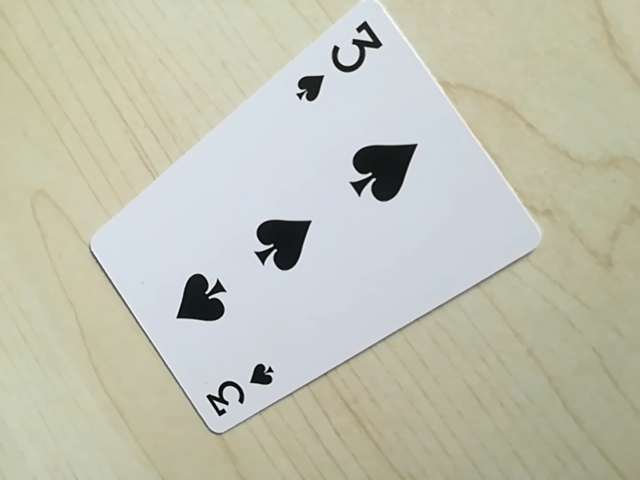ht 3: (292, 14, 384, 108), (197, 360, 280, 425)
